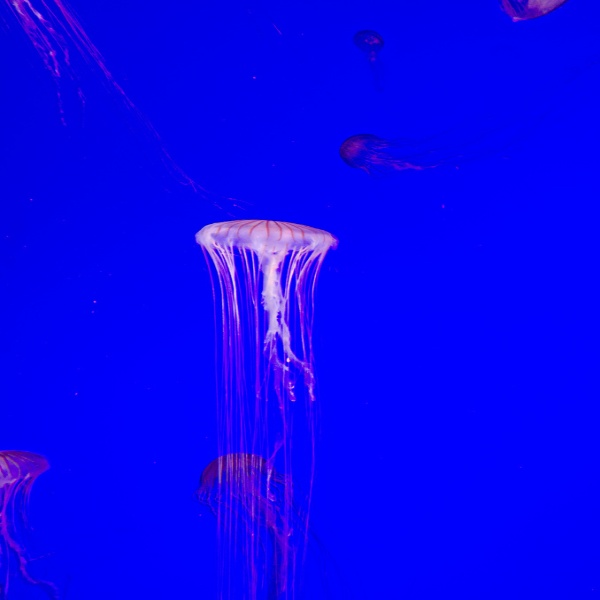Jellyfish: (188, 220, 339, 454), (194, 456, 307, 599), (334, 127, 514, 180), (0, 449, 49, 599), (349, 29, 382, 78), (500, 0, 565, 18)
